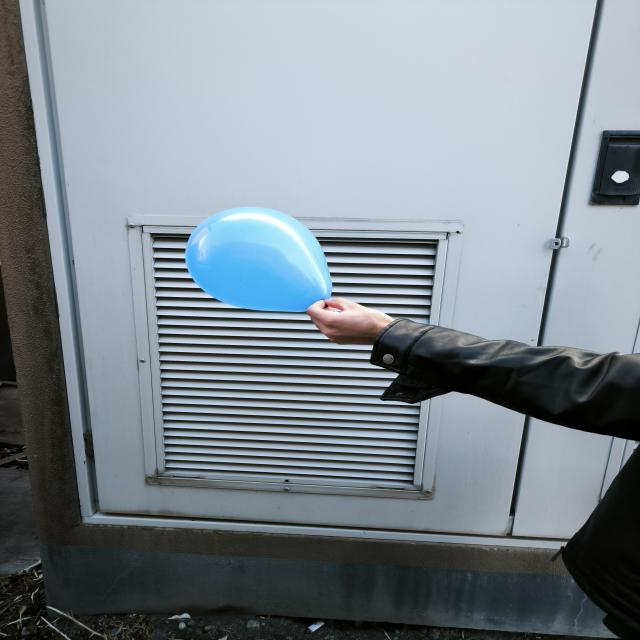balloon: (185, 207, 331, 312)
